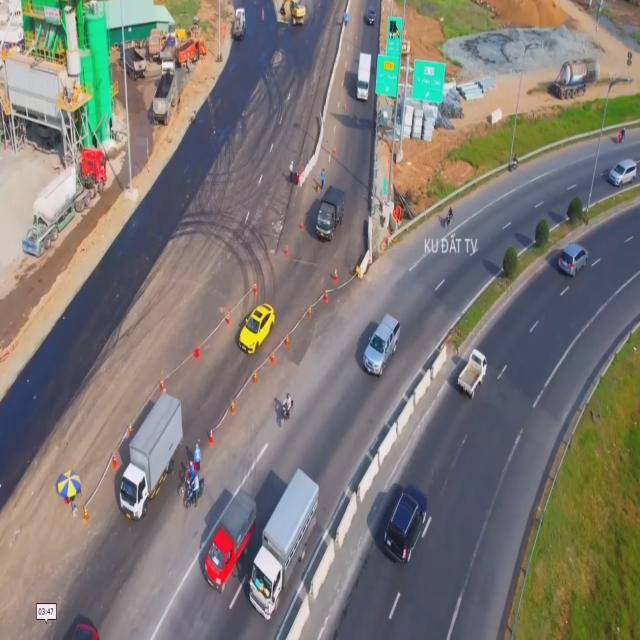car: (385, 483, 426, 565), (362, 315, 400, 374), (238, 300, 273, 355), (558, 238, 588, 280), (608, 158, 638, 188)
motorbike: (181, 476, 205, 509), (278, 393, 294, 427), (443, 208, 456, 228)
truck: (248, 468, 320, 617), (116, 393, 183, 522), (200, 488, 256, 588), (457, 342, 488, 402), (315, 184, 345, 241), (356, 52, 371, 102)
